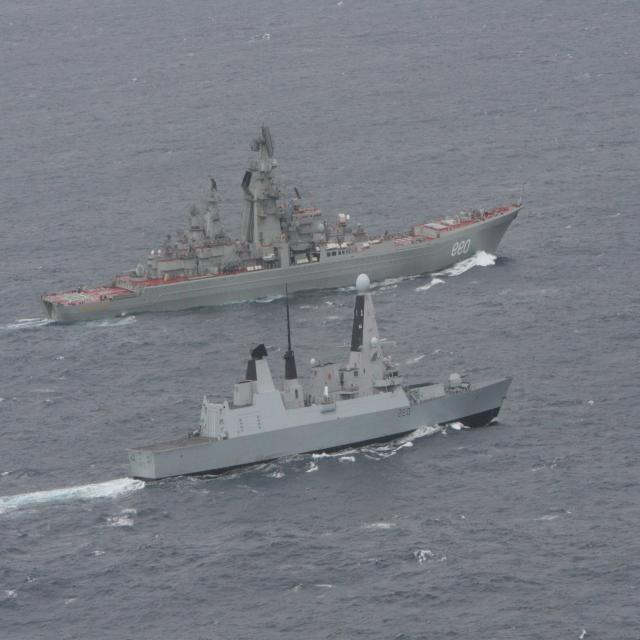navalvessels: (29, 97, 520, 340), (120, 241, 539, 482)
